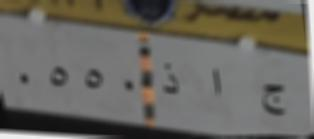0: (121, 75, 137, 98), (17, 66, 31, 91)
5: (82, 64, 105, 97), (49, 62, 70, 94)
alif: (202, 58, 230, 98)
jeem: (260, 74, 288, 122)
zaal: (158, 60, 182, 101)
